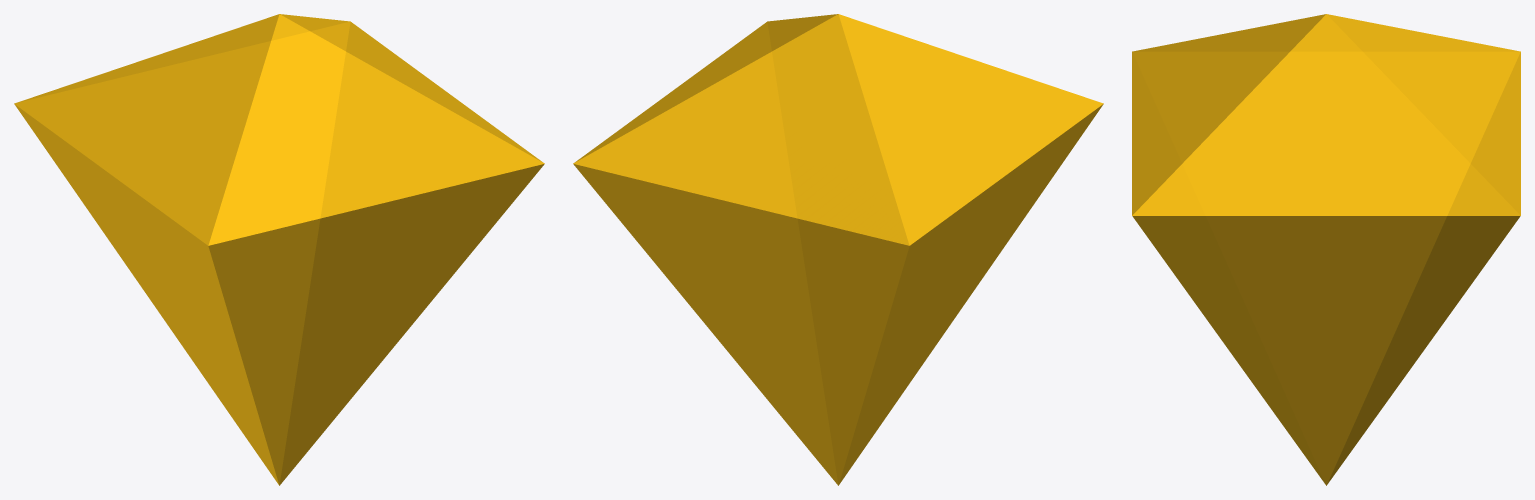
Rendered from Amberstone.glb.
3 views of the same model, side by side, from view 1: azimuth 30°, elevation 25°; view 2: azimuth 150°, elevation 25°; view 3: azimuth 270°, elevation 25° (orthographic).
Visible parts, largest first — view 1: Amberstone; view 2: Amberstone; view 3: Amberstone.
Boxes of the visible parts, x1=… form: Amberstone: x1=14, y1=14, x2=544, y2=485; Amberstone: x1=573, y1=14, x2=1103, y2=485; Amberstone: x1=1132, y1=14, x2=1520, y2=485.
Bounding box in the file's own units: 2 × 2.68 × 2.
